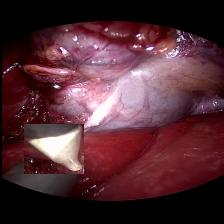Hook: (22, 124, 82, 174)
